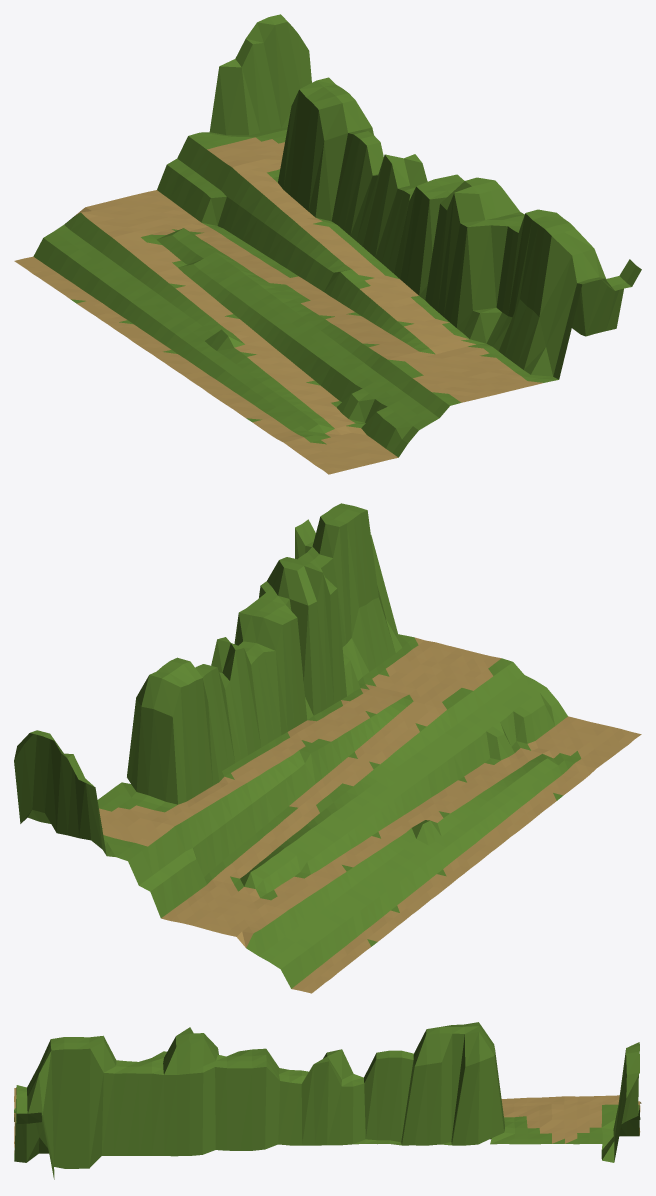
File: Road.fbx
3 renders of one model, top to bottom at view 1: azimuth 30°, elevation 25°; view 2: azimuth 150°, elevation 25°; view 3: azimuth 270°, elevation 25°, orthographic. The views are drawn at different scales.
Parts seen in each view (by area): view 1: Road2; view 2: Road2; view 3: Road2.
Part boxes in pixels (bbox=[...]): Road2: bbox=[14, 14, 641, 474]; Road2: bbox=[14, 503, 641, 993]; Road2: bbox=[14, 1022, 641, 1179].
Bounding box in the file's own units: 10517 × 5918 × 18153.
